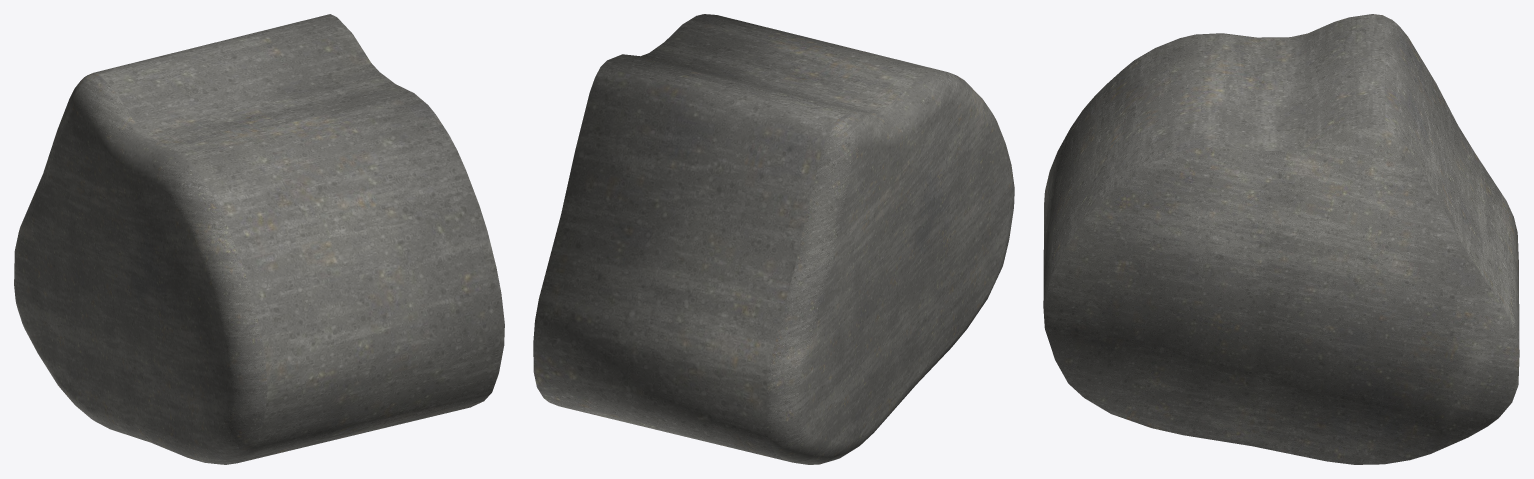
File: keystone.obj
The picture shows the model from 3 angles, left to right: view 1: azimuth 30°, elevation 25°; view 2: azimuth 150°, elevation 25°; view 3: azimuth 270°, elevation 25°; orthographic projection. The views are drawn at different scales.
Parts seen in each view (by area): view 1: Circle; view 2: Circle; view 3: Circle.
Boxes of the visible parts, bbox=[...] form: Circle: bbox=[14, 14, 504, 464]; Circle: bbox=[533, 14, 1014, 464]; Circle: bbox=[1043, 14, 1519, 464].
Bounding box in the file's own units: 0.3335 × 0.4226 × 0.5403.
1 material, 1 textured.
